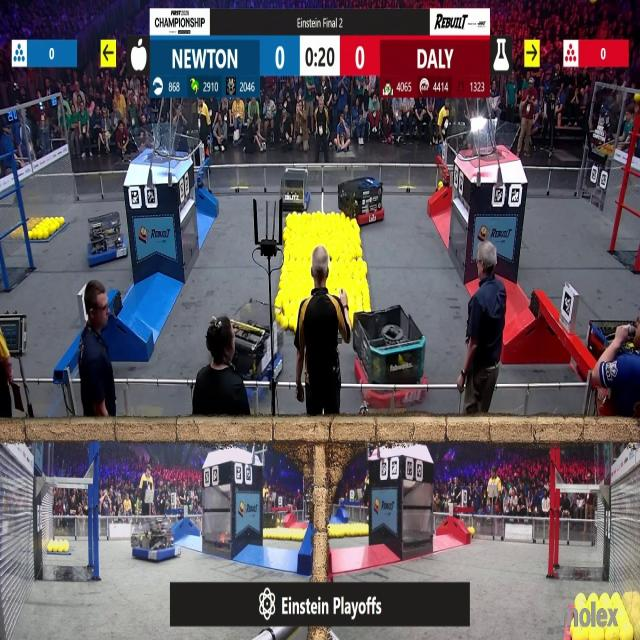ball_ground: (288, 318, 295, 329), (275, 296, 282, 306), (282, 318, 288, 329), (276, 314, 283, 323), (356, 248, 362, 258), (468, 528, 473, 536)
goal: (465, 121, 521, 159), (131, 130, 188, 160)
robot_blue: (227, 302, 282, 404), (132, 516, 178, 562), (86, 214, 125, 267), (280, 167, 311, 211)
robot_red: (351, 308, 427, 410), (340, 175, 384, 226)
